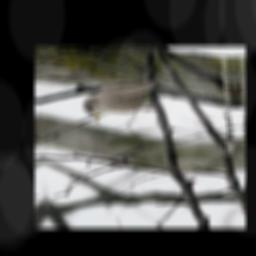Cuckoo: (80, 80, 164, 123)
